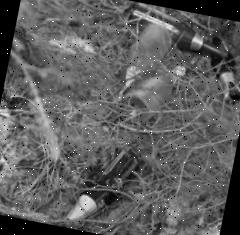glass: (105, 0, 240, 145), (58, 133, 145, 235)
